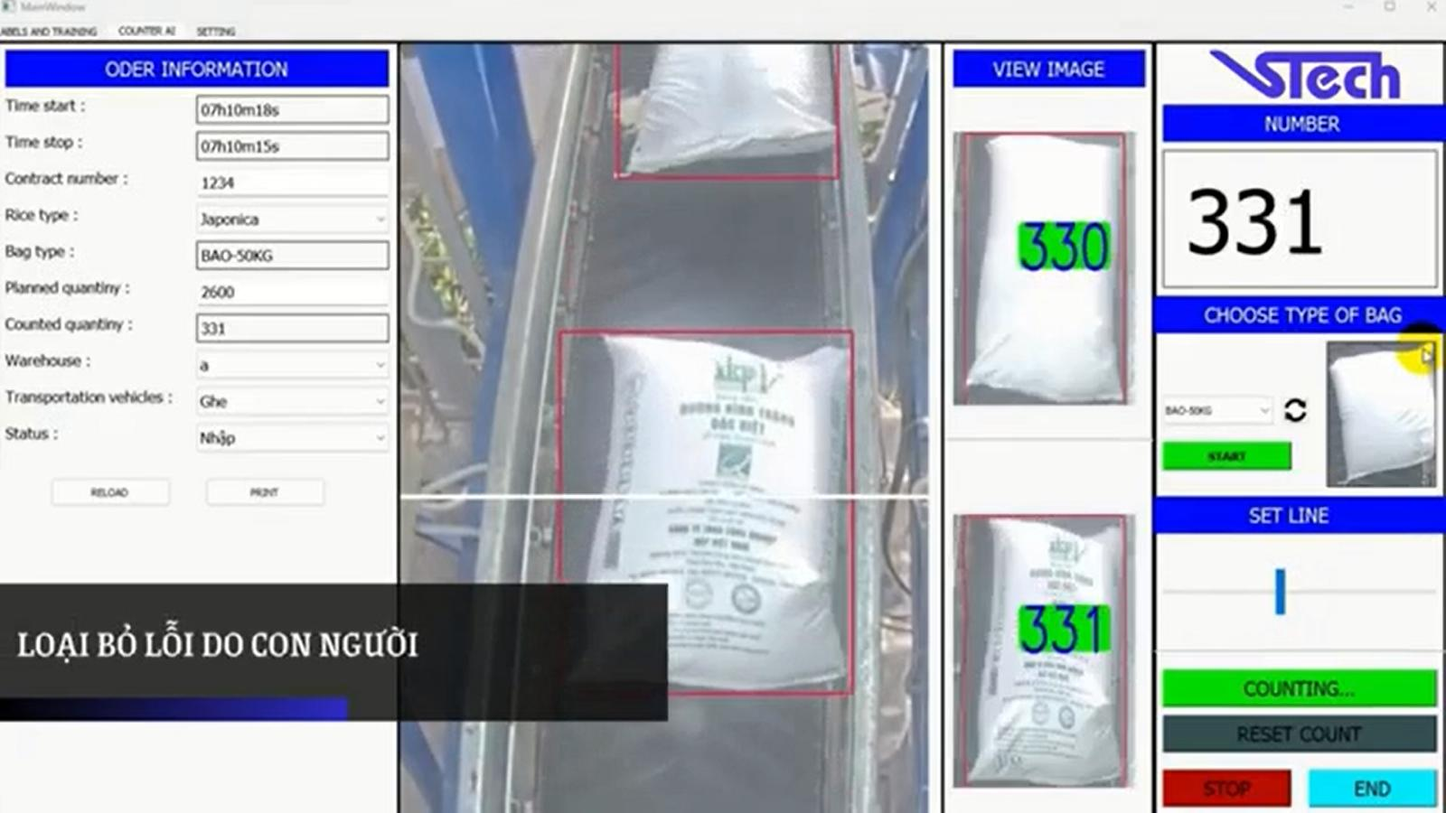rice-bag: (568, 336, 847, 690), (961, 135, 1128, 404), (968, 520, 1124, 786), (629, 44, 833, 173)
